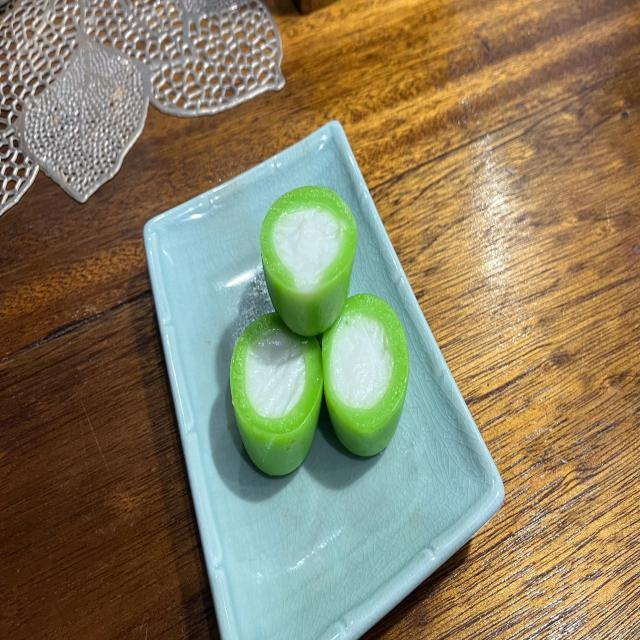nona-manis: (230, 313, 322, 476), (260, 187, 358, 336), (322, 293, 409, 456)
